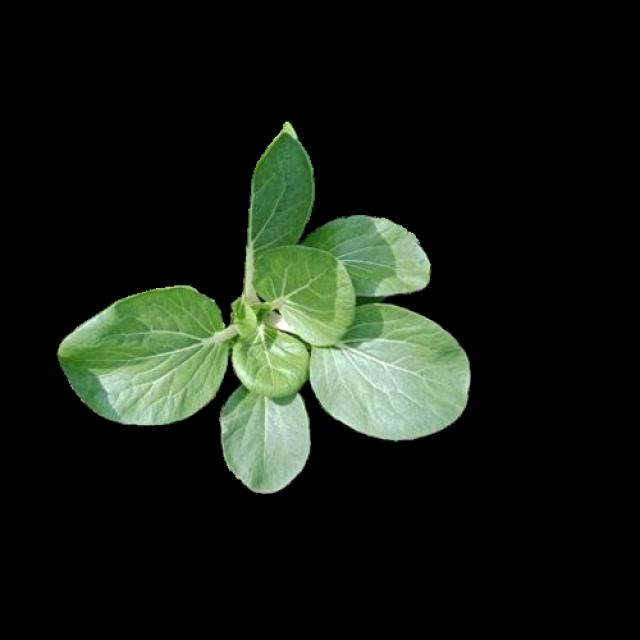healthy: (56, 123, 468, 488)
not-mature: (59, 126, 470, 490)
